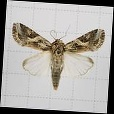Spodoptera litura: (10, 24, 104, 91)
